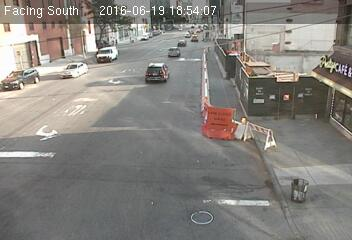neg: (11, 44, 26, 64), (319, 51, 334, 71), (67, 39, 78, 55)
